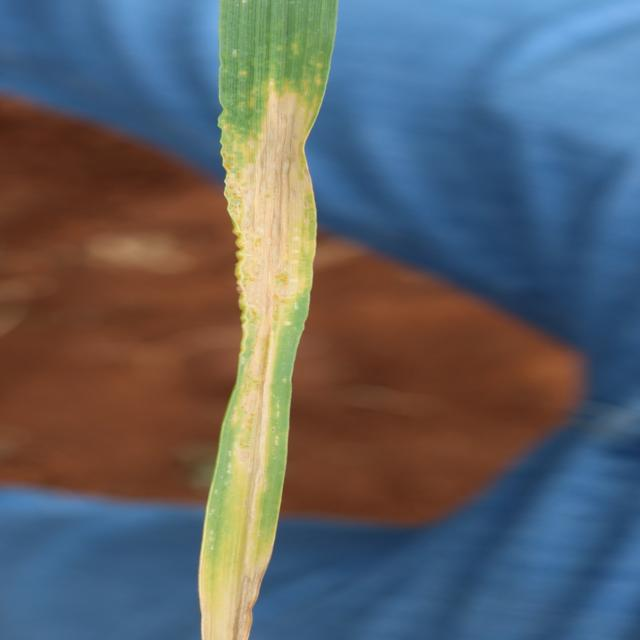Septoria: (262, 77, 311, 256), (246, 326, 273, 544), (200, 547, 260, 640), (228, 170, 259, 317)
